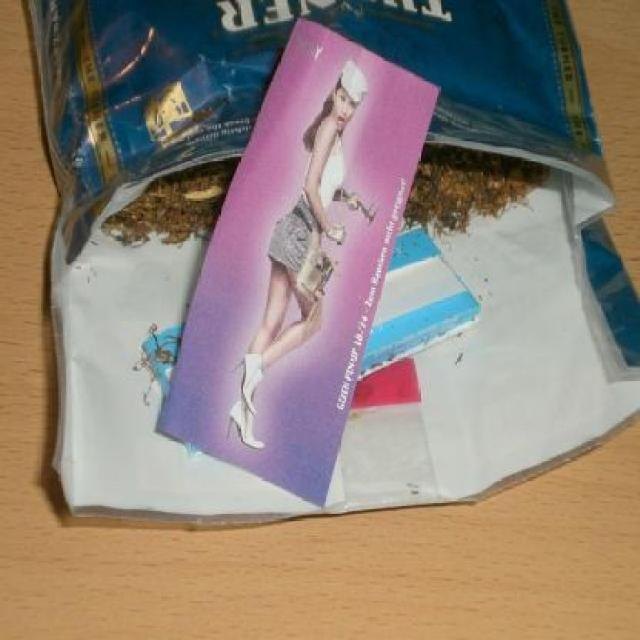plastic bag: (16, 1, 638, 528)
